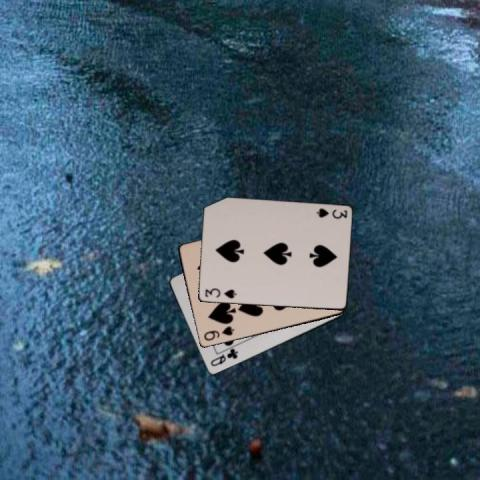3s: (202, 285, 237, 300), (313, 205, 348, 220)
9s: (201, 323, 236, 343)
Qc: (208, 346, 240, 368)
